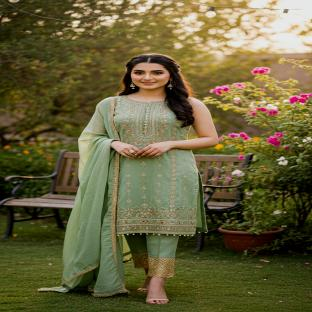Human: (38, 53, 218, 305)
